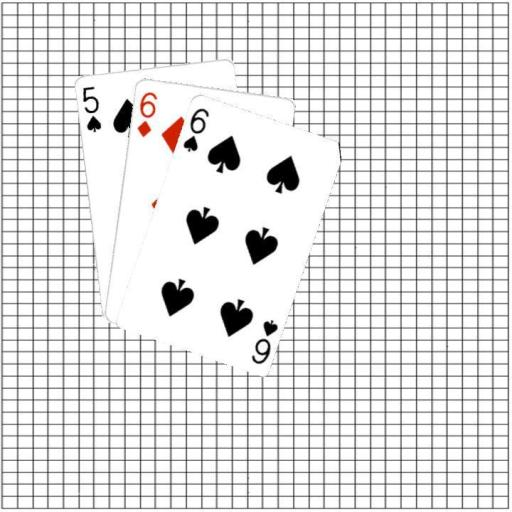card-corner: (248, 316, 280, 366), (179, 104, 211, 153), (134, 88, 158, 138), (79, 82, 102, 133)
